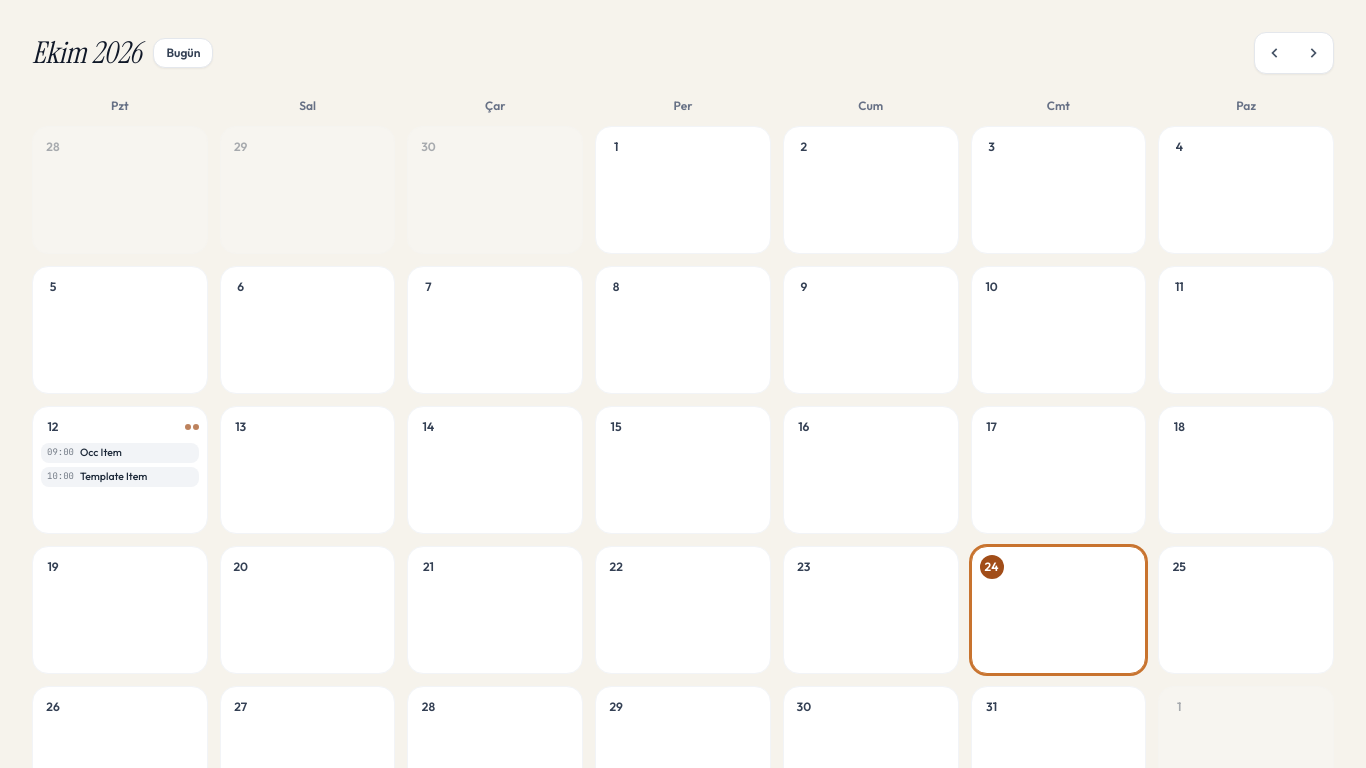
Scenario: MonthPage › hides reschedule button in day panel for occursOn and template recurring items
Click the cell with test id "cell-2026-10-12". click: point(120, 470)
box: x1=32 y1=406 x2=208 y2=534
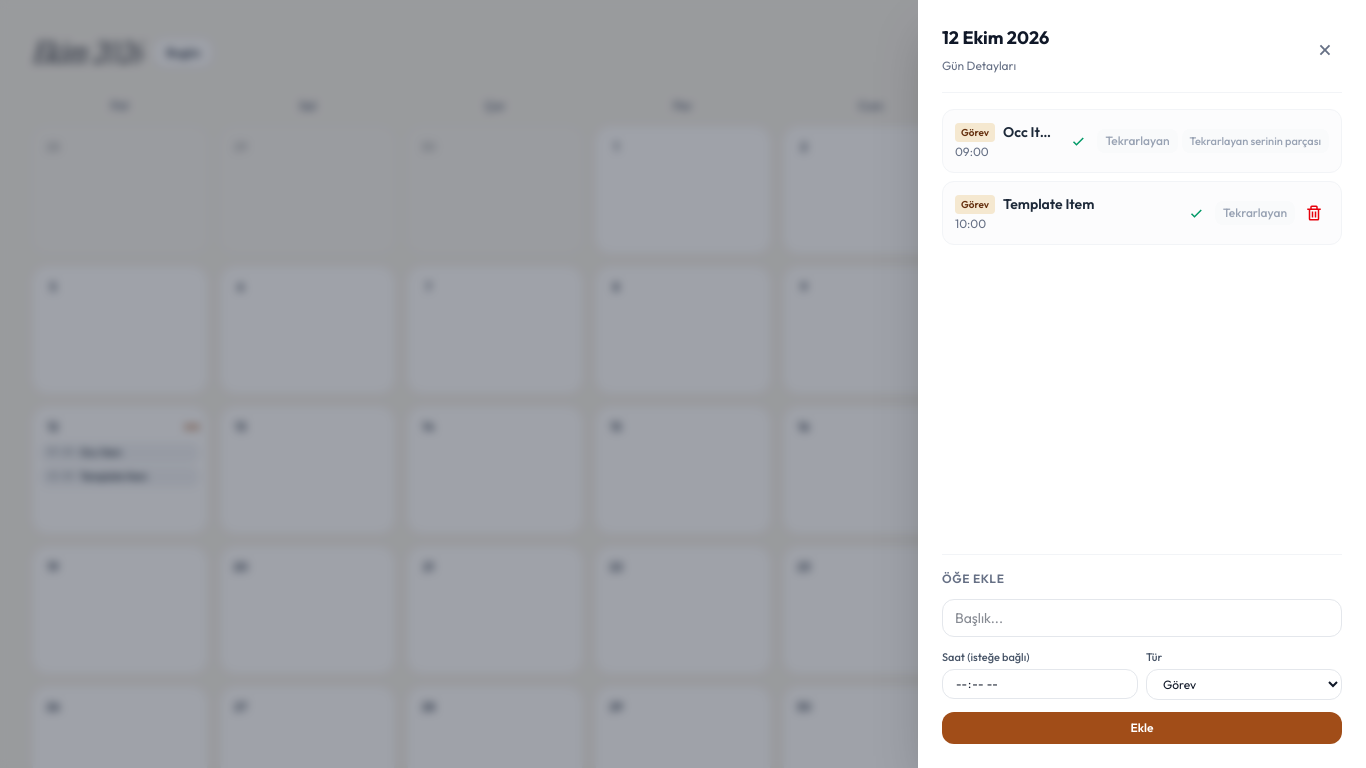
expect the element with test id "day-panel" is shown: met
expect the text "Tekrarlayan" is shown 2 times: met, box x1=1097 y1=129 x2=1178 y2=153; x1=1215 y1=201 x2=1295 y2=225
